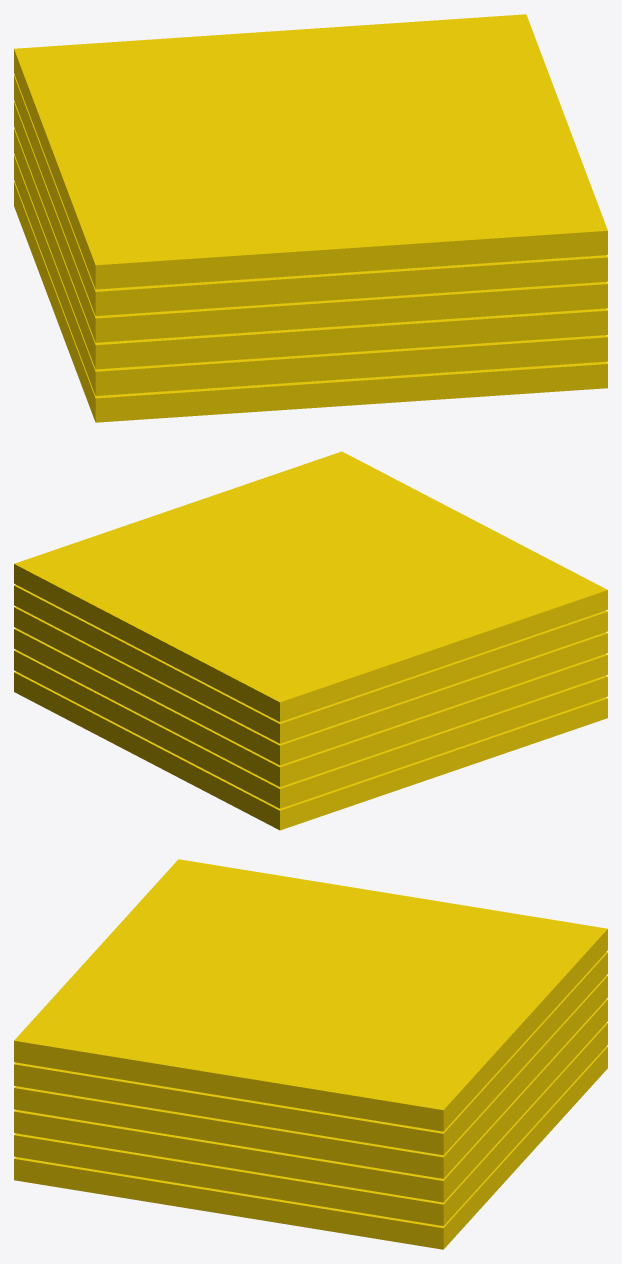
File: sticky-note--1.gltf
3 renders of one model, top to bottom at view 1: azimuth 30°, elevation 25°; view 2: azimuth 150°, elevation 25°; view 3: azimuth 270°, elevation 25°, orthographic. The views are drawn at different scales.
Visible parts, largest first — view 1: Stickynote; view 2: Stickynote; view 3: Stickynote.
Part boxes in pixels (box(x1,y1,x2,y2)): Stickynote: box(14, 14, 607, 422); Stickynote: box(14, 451, 607, 830); Stickynote: box(14, 859, 607, 1249).
Bounding box in the file's own units: 0.1158 × 0.03 × 0.1158.
1 material, 1 textured.
